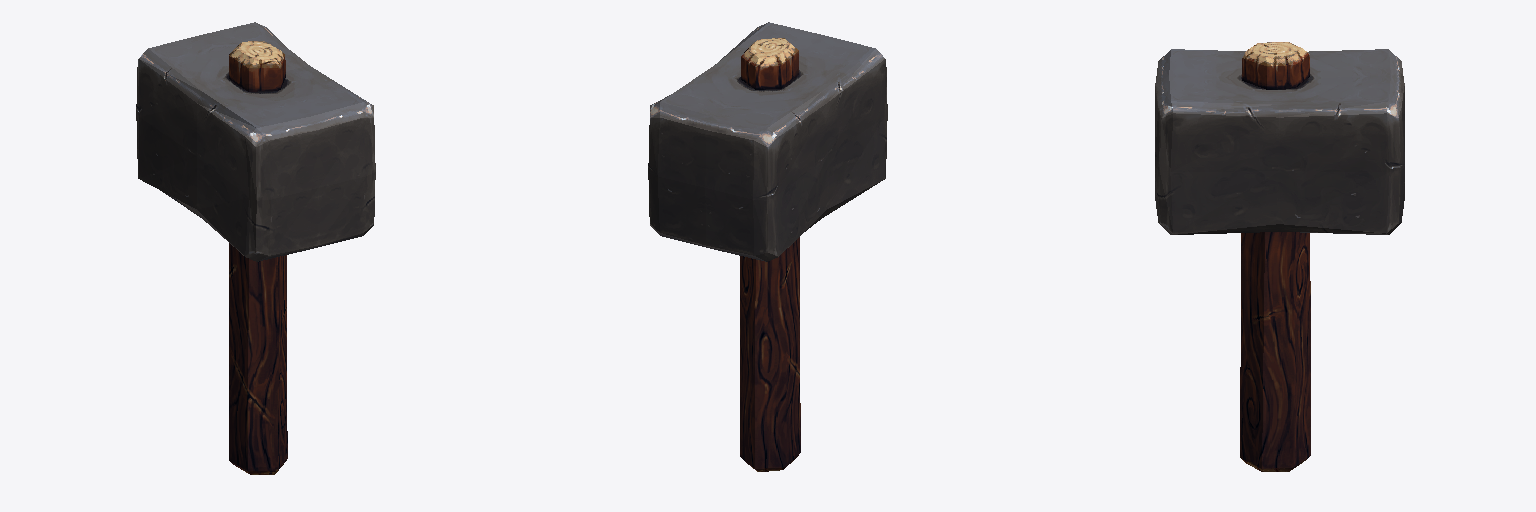
3 views of the same model, side by side, from view 1: azimuth 30°, elevation 25°; view 2: azimuth 150°, elevation 25°; view 3: azimuth 270°, elevation 25° (orthographic).
Visible parts, largest first — view 1: mace, handle; view 2: mace, handle; view 3: mace, handle.
Part boxes in pixels (x1,y1,x2,y2): mace: (136,22,375,261); handle: (229,41,287,474); mace: (648,22,887,261); handle: (740,38,800,471); mace: (1155,49,1404,234); handle: (1240,42,1310,471).
Size of the model in its own units: 45.61 by 141 by 77.1.
1 materials, 1 textured.